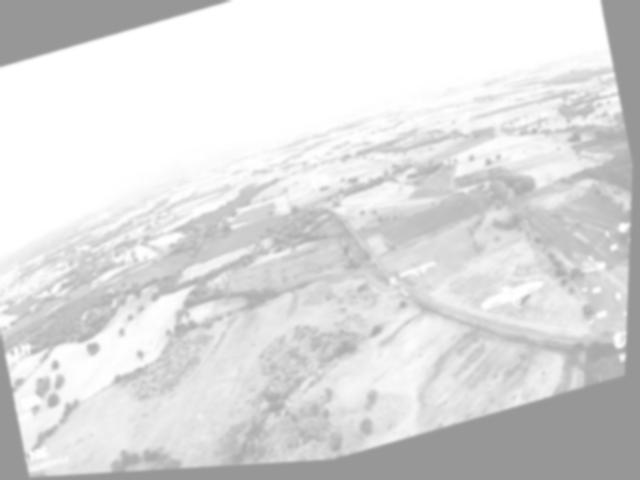hedef: (460, 261, 561, 341)
